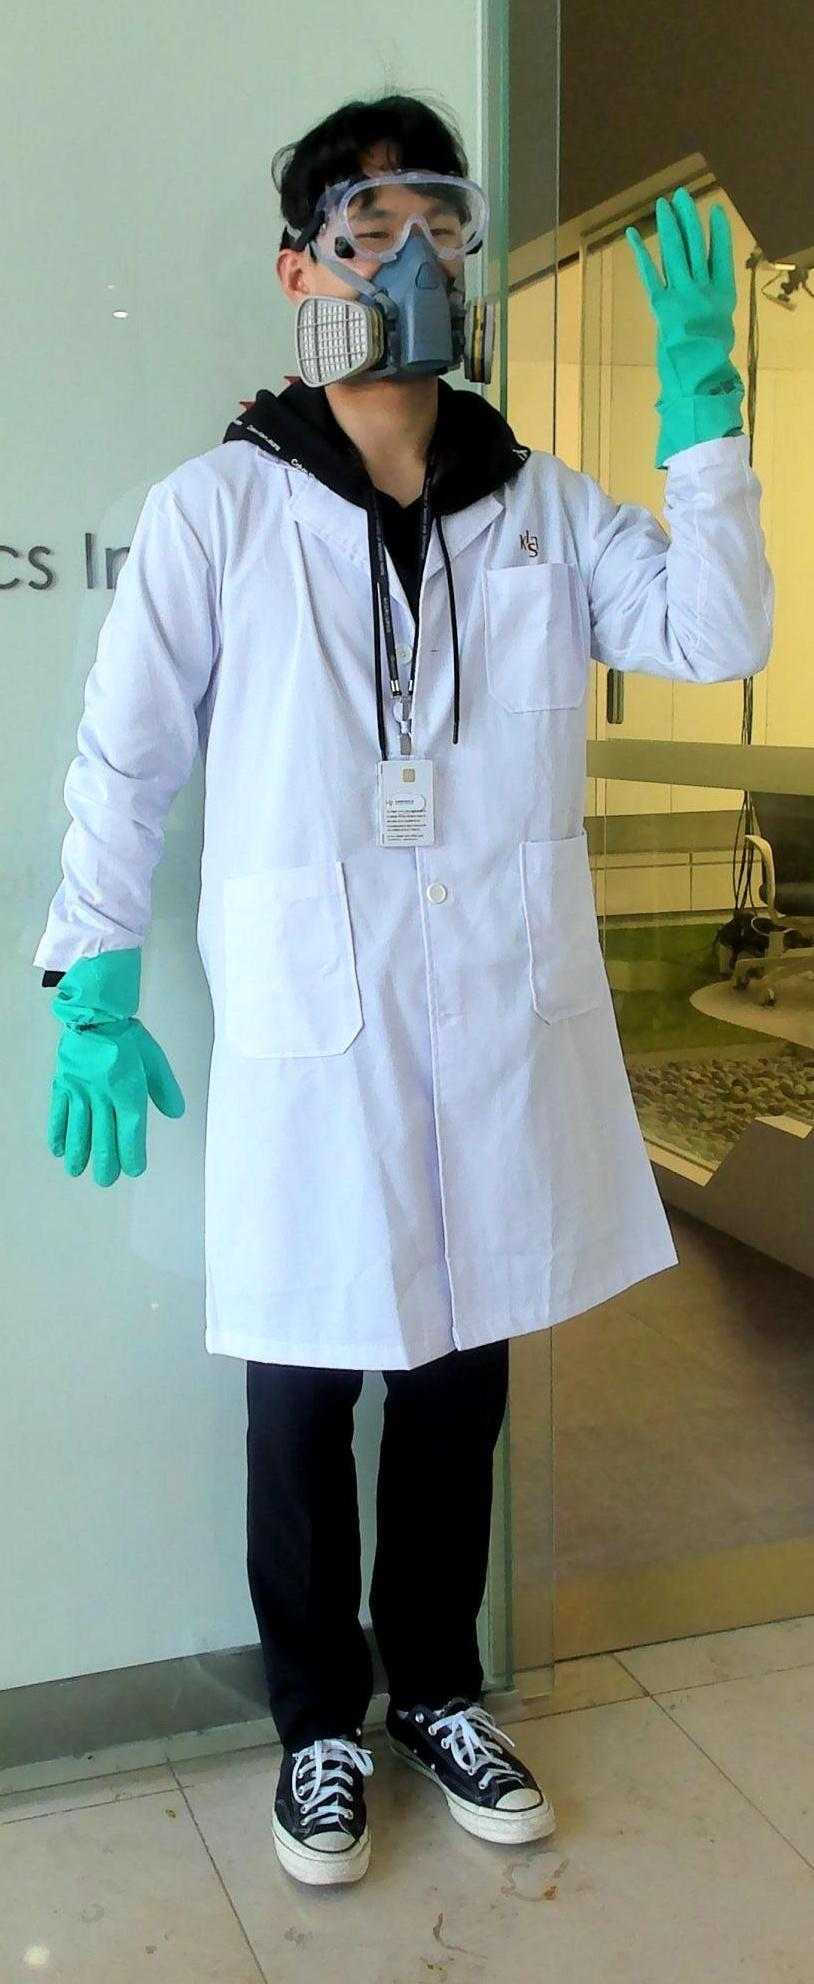lab_coat: (171, 481, 666, 1330)
